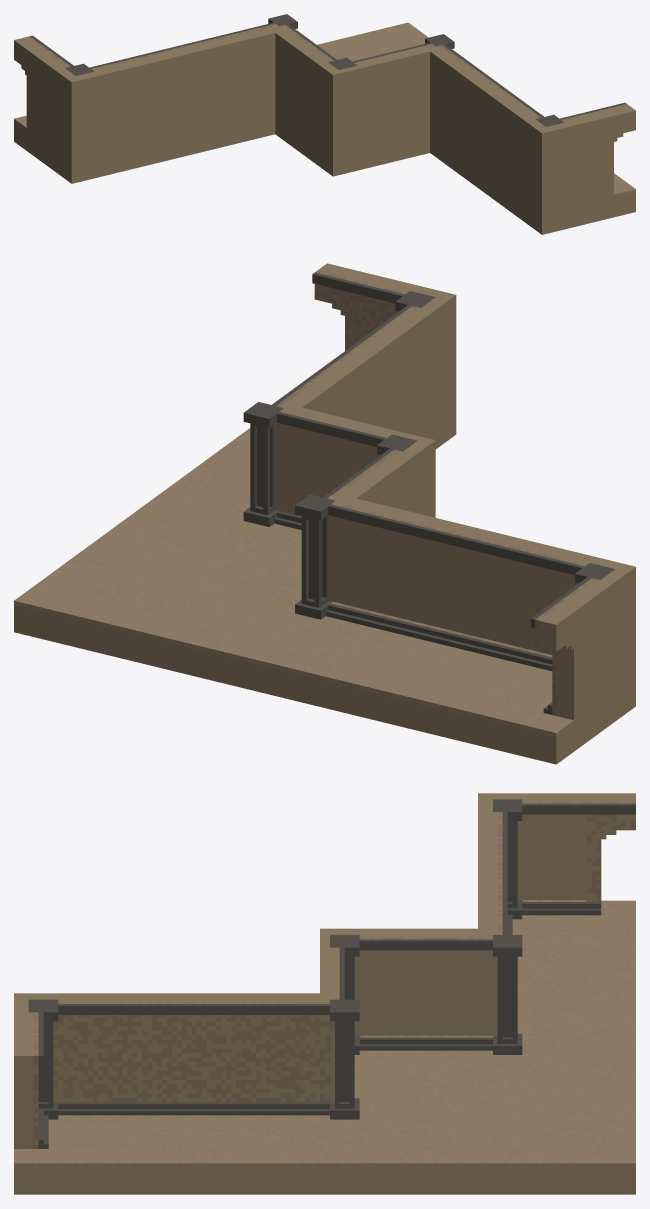
File: LargeRoom2-1.obj
The picture shows the model from 3 angles, top to bottom: view 1: azimuth 30°, elevation 25°; view 2: azimuth 150°, elevation 25°; view 3: azimuth 270°, elevation 25°; orthographic projection. The views are drawn at different scales.
Size of the model in its own units: 12.6 by 3.1 by 12.6.
